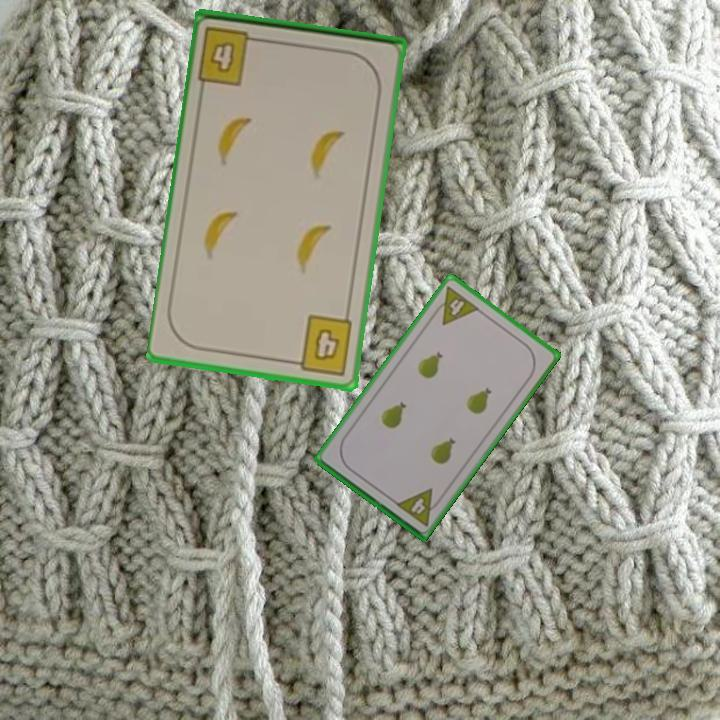4b: (195, 22, 266, 89), (287, 311, 356, 378)
4p: (428, 282, 482, 328), (392, 485, 445, 529)
